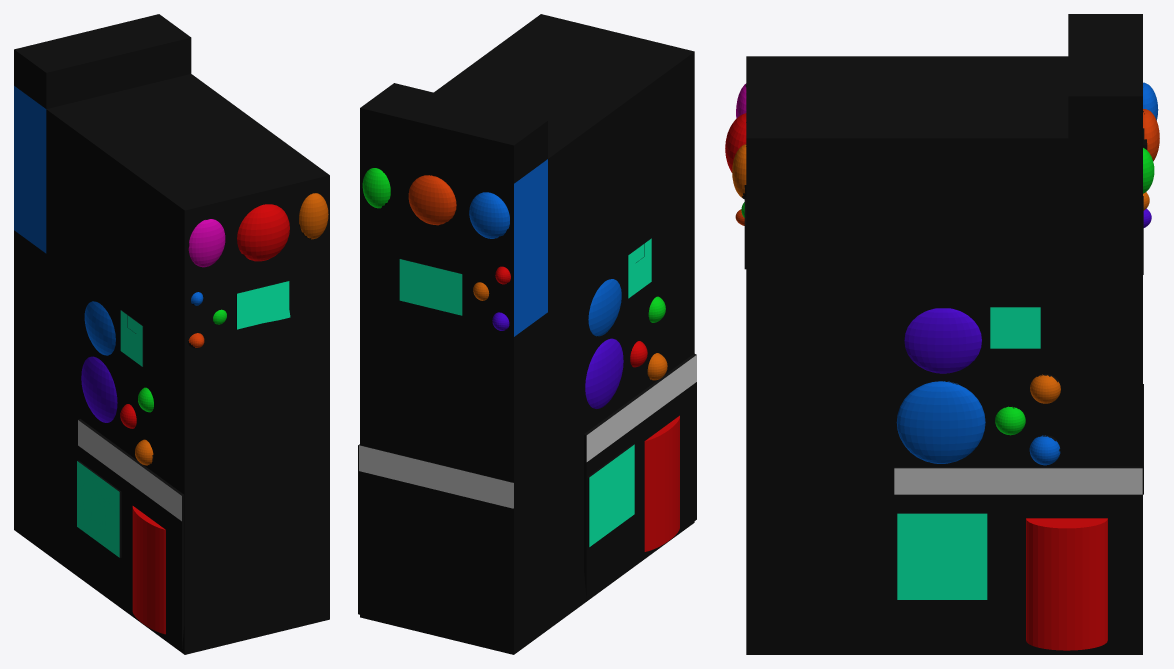
File: Karoake Building.fbx
3 views of the same model, side by side, from view 1: azimuth 30°, elevation 25°; view 2: azimuth 150°, elevation 25°; view 3: azimuth 270°, elevation 25° (orthographic). The views are drawn at different scales.
Visible parts, largest first — view 1: Cube (×9); view 2: Cube (×9); view 3: Cube (×9).
Boxes of the visible parts, <box> form: Cube (×9): <box>14,14,329,654</box>; Cube (×9): <box>358,14,696,654</box>; Cube (×9): <box>725,14,1159,654</box>.
Size of the model in its own units: 1509 by 3951 by 2786.
